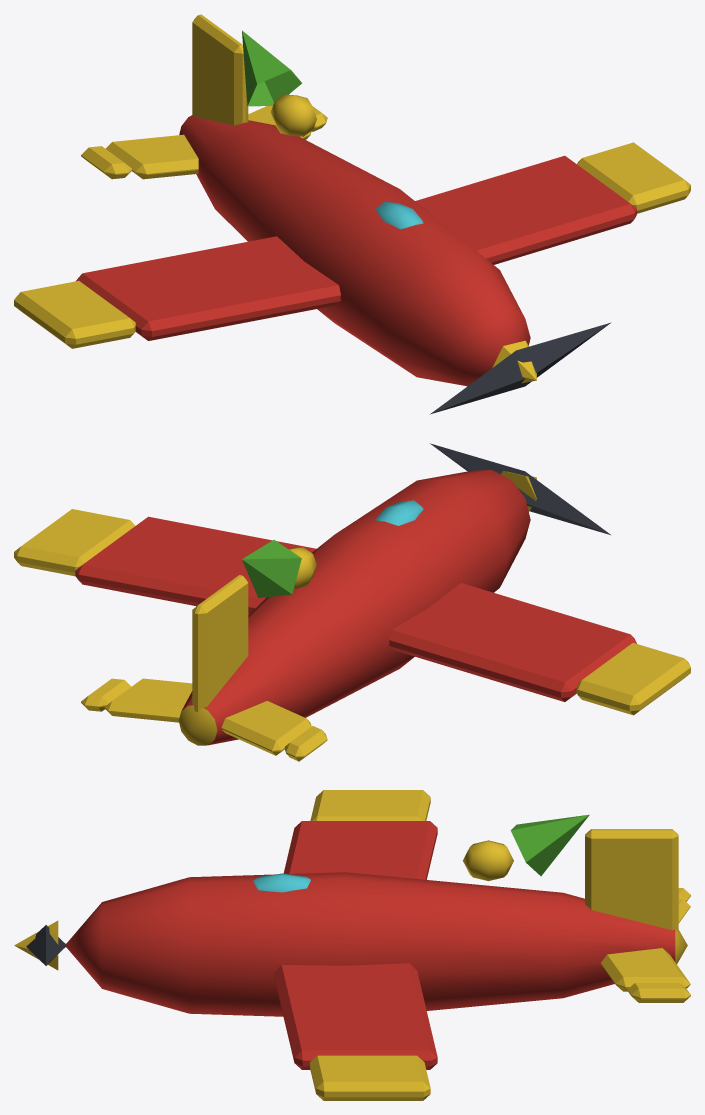
3 views of the same model, one above another, from view 1: azimuth 30°, elevation 25°; view 2: azimuth 150°, elevation 25°; view 3: azimuth 270°, elevation 25° (orthographic). The views are drawn at different scales.
Visible parts, largest first — view 1: as_0_base, as_1_torreta; view 2: as_0_base, as_1_torreta; view 3: as_0_base, as_1_torreta.
Boxes of the visible parts, x1,y1,x2,y2 form: as_0_base: (14,14,690,386); as_1_torreta: (430,322,611,414); as_0_base: (14,470,690,761); as_1_torreta: (430,443,610,534); as_0_base: (66,790,690,1100); as_1_torreta: (14,920,66,970).
Size of the model in its own units: 1.13 by 0.3497 by 1.09.
